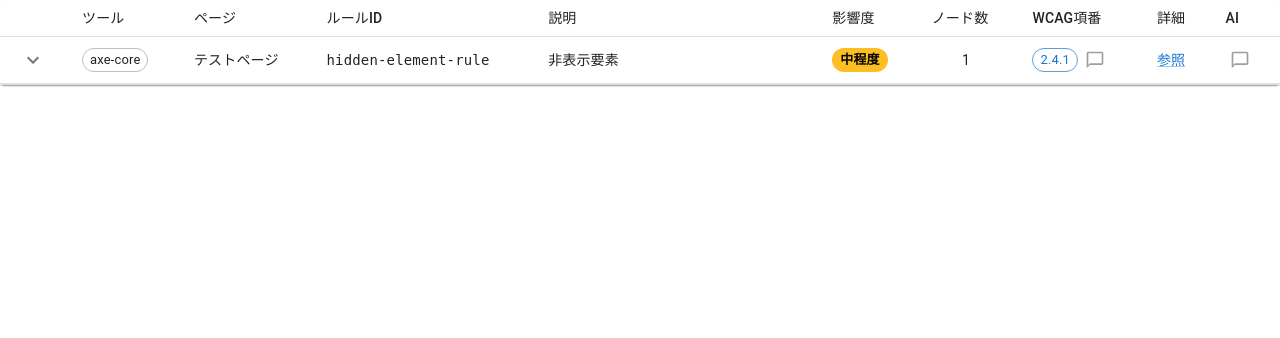
Test: フロントエンド統合テスト (Task 12.2) › 問題箇所の視覚的特定 (Task 13.5, Req 6.1, 6.2, 6.4, 6.7) › 拡張ノード情報の表示 › 非表示要素には警告メッセージが表示される (Req 6.7)
Click the button named "ノード情報を展開". click: (33,60)
box: [16, 43, 50, 77]
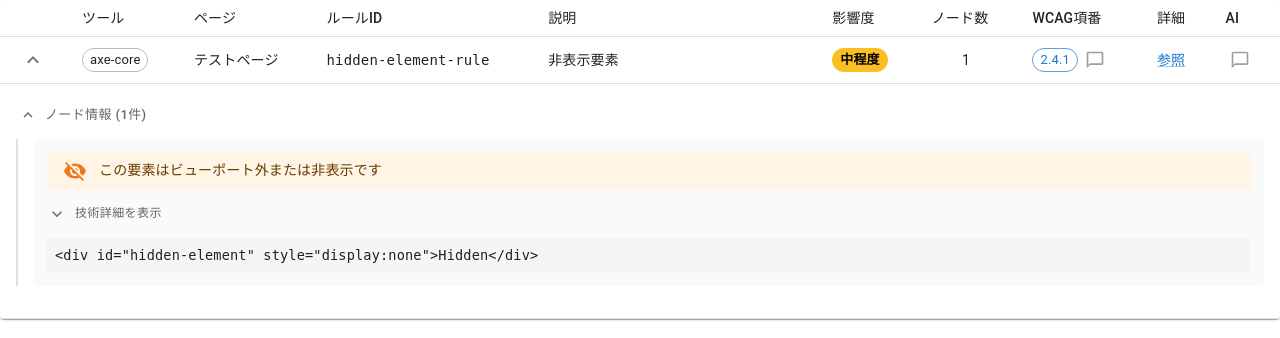
Now the text "この要素はビューポート外または非表示です" is shown, box [99, 162, 382, 178]
